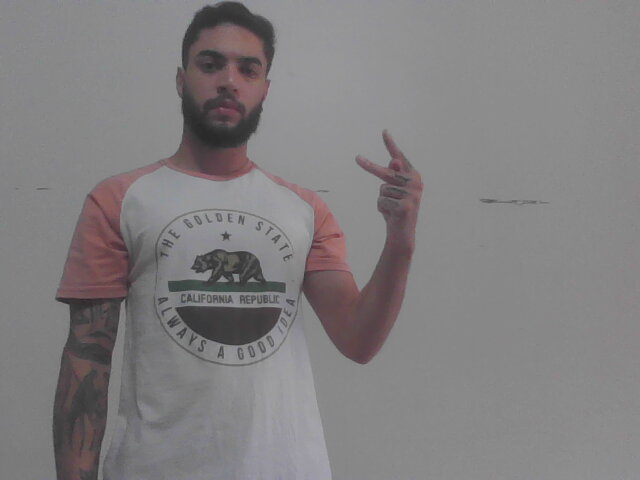h: (350, 125, 430, 250)
